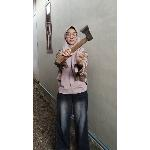Kapak: (57, 23, 96, 65)
